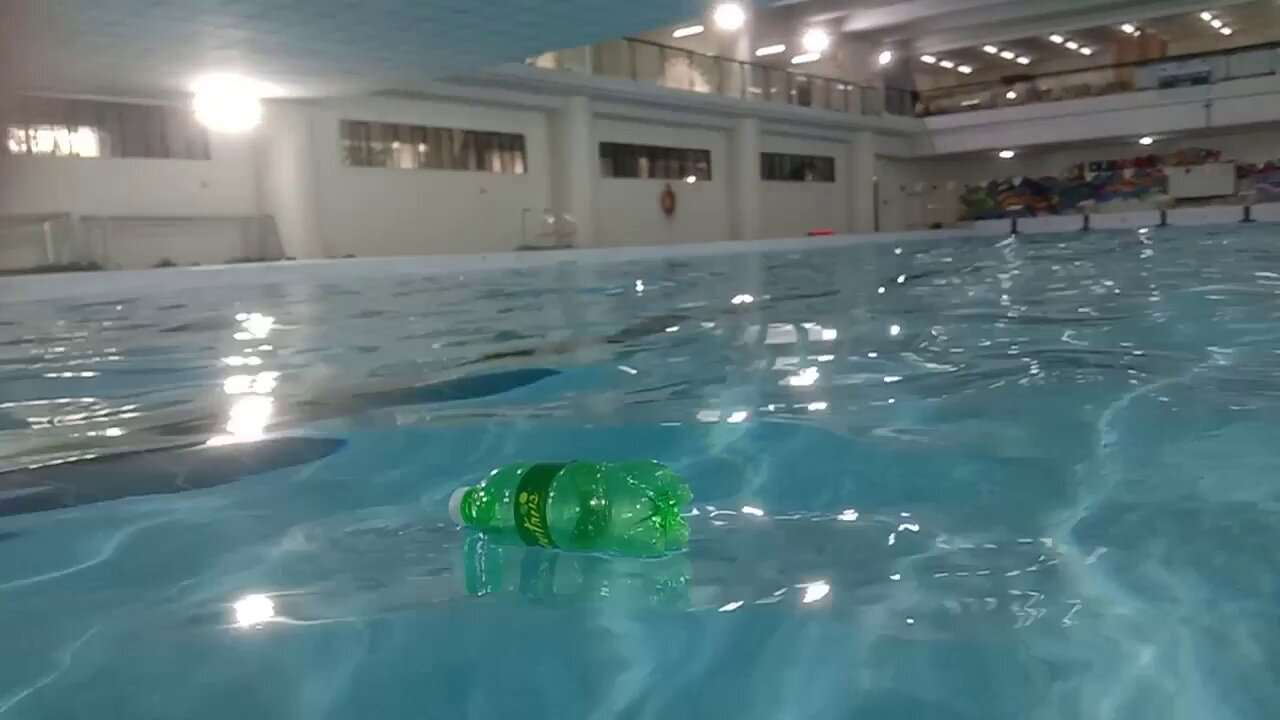plastic_bottle: (448, 460, 695, 555)
